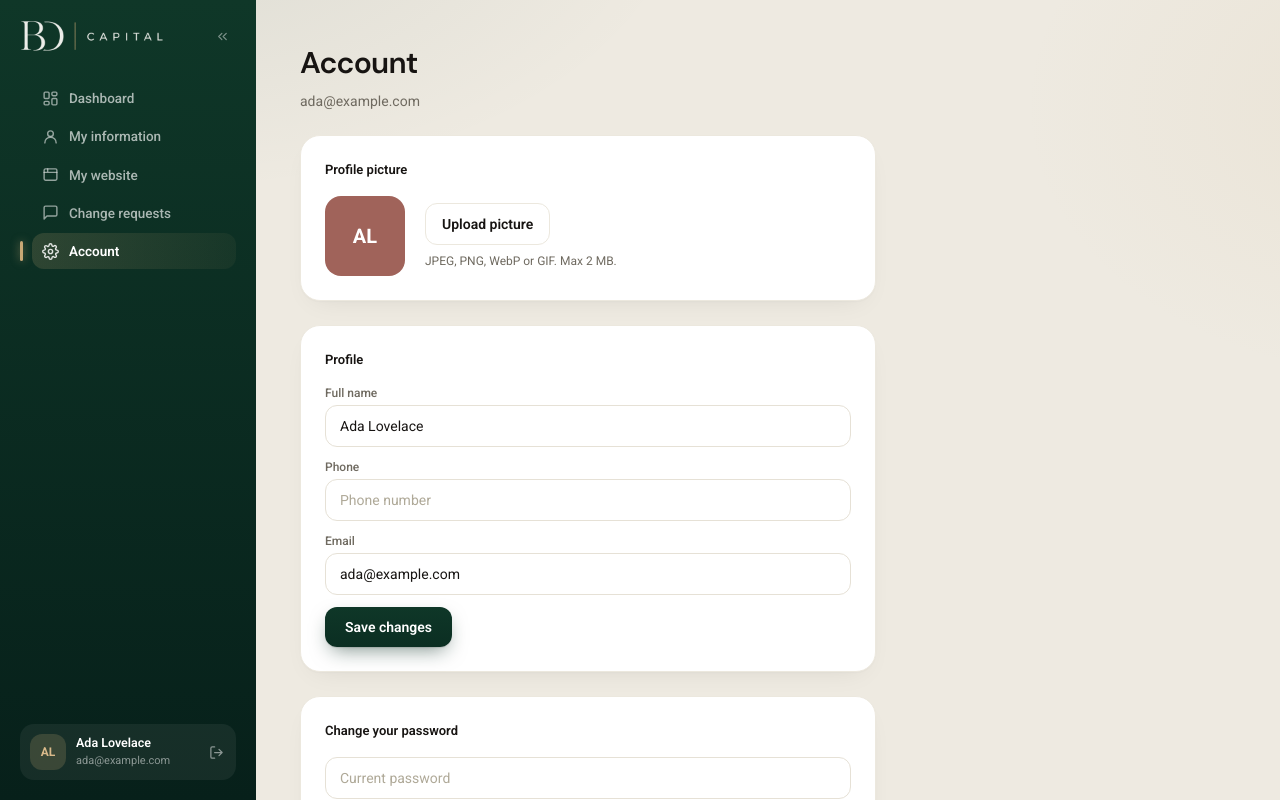
Test: Account inside the real auth provider › a saved name shows up in the sidebar immediately
Replace the text in the field with placeholder "Your full name" below "Full name" with "Grace Hopper" at (588, 426), box [325,405,851,447]
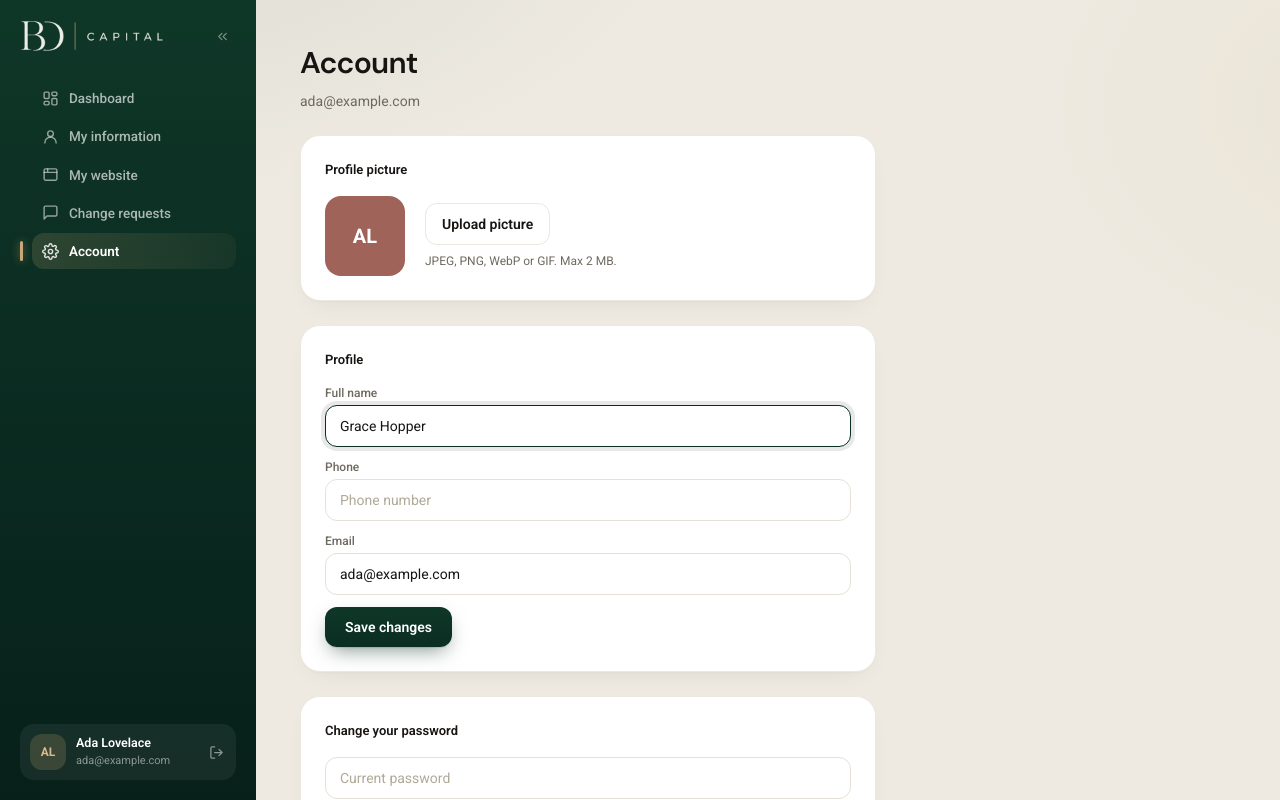
Click the button "Save changes" at (389, 627), box [325,607,452,647]
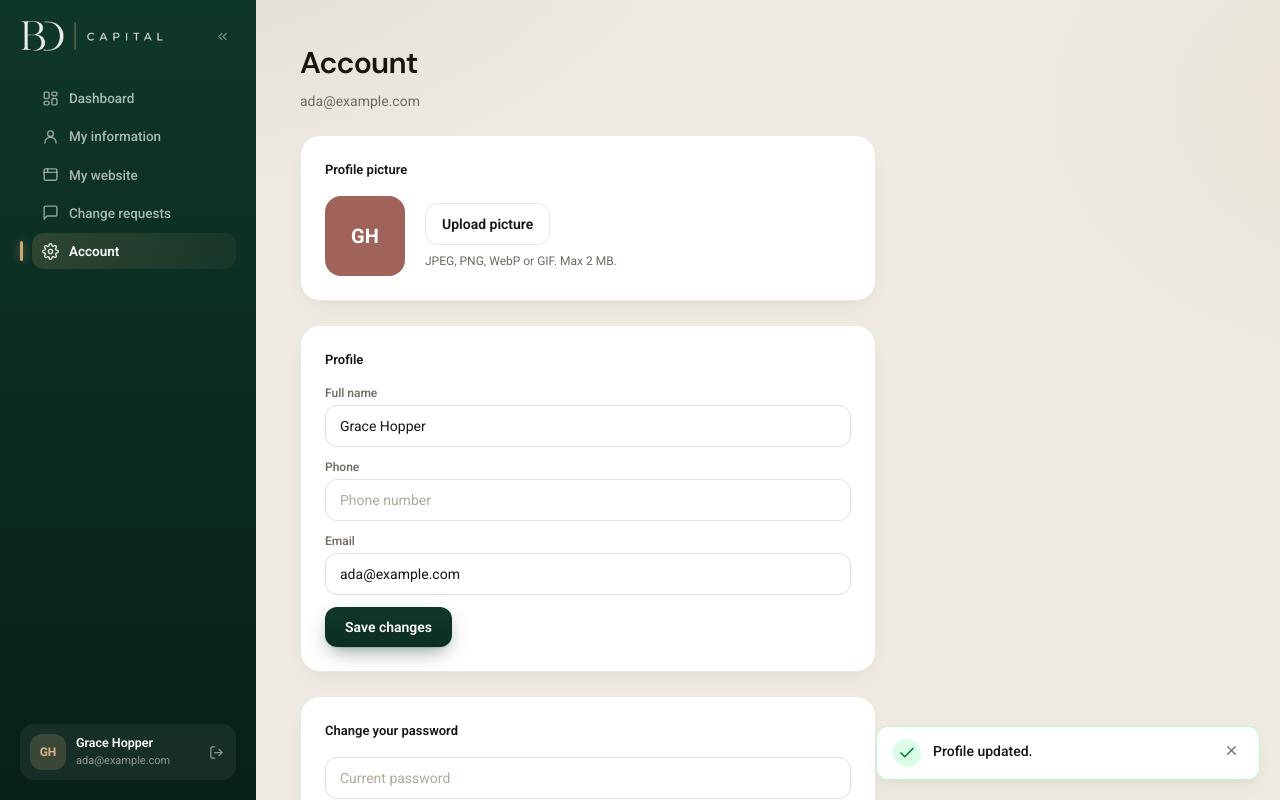
Expected: the text "GH" next to "Grace Hopper" is shown, [40,745,56,759]
Expected: the text "Grace Hopper" is shown, [76,735,153,750]
